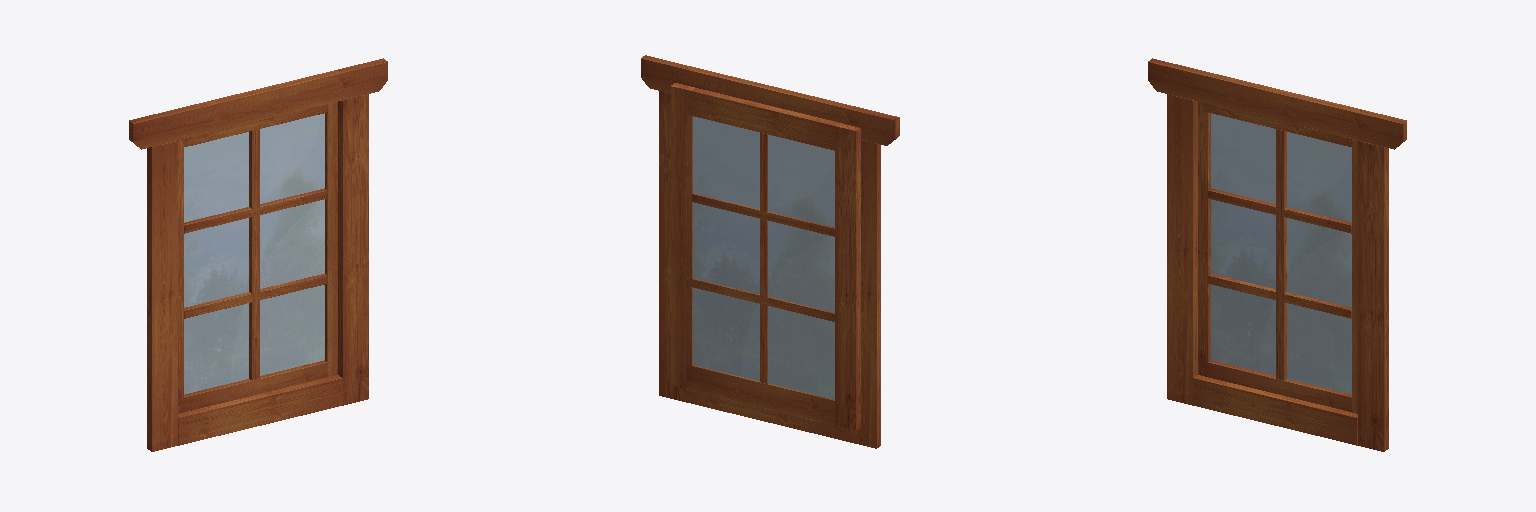
3 renders of one model, left to right at view 1: azimuth 30°, elevation 25°; view 2: azimuth 150°, elevation 25°; view 3: azimuth 330°, elevation 25°, orthographic.
Visible parts, largest first — view 1: glass, trim_left, trim_right, trim_top, trim_bottom, window_right, muttin_vertical, window_bottom, window_left, muttin002, muttin001, window_top; view 2: glass, window_left, window_right, trim_left, trim_top, window_top, trim_right, window_bottom, trim_bottom, muttin_vertical, muttin002, muttin001; view 3: glass, trim_right, trim_left, trim_top, trim_bottom, window_left, muttin_vertical, window_bottom, window_right, muttin002, muttin001, window_top.
Boxes of the visible parts, box(x1,y1,x2,y2) form: glass: box(184, 113, 324, 394); trim_left: box(147, 141, 177, 451); trim_right: box(338, 94, 368, 405); trim_top: box(129, 58, 387, 149); trim_bottom: box(178, 375, 342, 445); window_right: box(325, 102, 337, 376); muttin_vertical: box(249, 129, 259, 380); window_bottom: box(179, 360, 332, 412); window_left: box(178, 139, 183, 413); muttin002: box(184, 274, 327, 318); muttin001: box(184, 188, 327, 233); window_top: box(183, 104, 327, 147); glass: box(693, 116, 834, 399); window_left: box(835, 123, 860, 430); window_right: box(671, 83, 694, 388); trim_left: box(850, 140, 880, 448); trim_top: box(641, 55, 899, 145); window_top: box(687, 88, 842, 150); trim_right: box(659, 91, 685, 401); window_bottom: box(687, 365, 834, 424); trim_bottom: box(686, 389, 849, 441); muttin_vertical: box(760, 133, 767, 383); muttin002: box(692, 278, 834, 321); muttin001: box(692, 193, 834, 236); glass: box(1211, 113, 1351, 394); trim_right: box(1358, 141, 1388, 451); trim_left: box(1167, 94, 1197, 405); trim_top: box(1148, 58, 1406, 149); trim_bottom: box(1193, 375, 1357, 445); window_left: box(1198, 102, 1210, 375); muttin_vertical: box(1276, 129, 1286, 380); window_bottom: box(1203, 360, 1356, 411); window_right: box(1352, 139, 1357, 413); muttin002: box(1208, 274, 1351, 318); muttin001: box(1208, 188, 1351, 233); window_top: box(1203, 103, 1356, 146).
Size of the model in its own units: 24.06 by 30 by 1.5.
Materials: 7 (7 with a texture image).